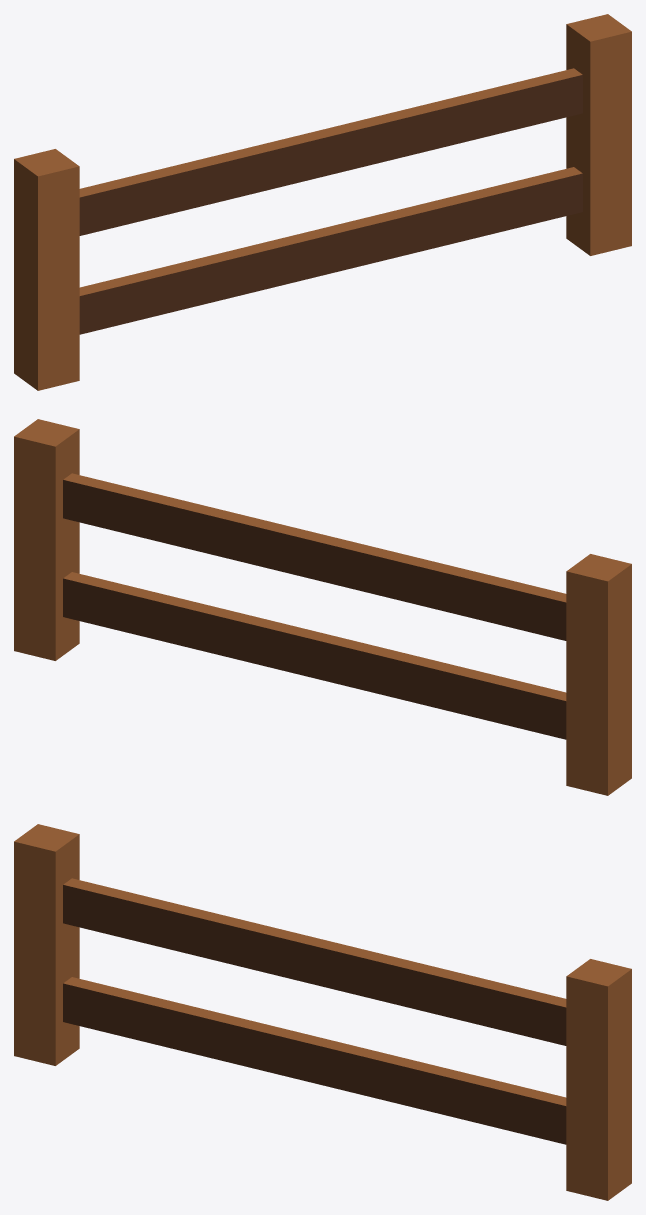
File: fence_simple.glb
3 views of the same model, one above another, from view 1: azimuth 30°, elevation 25°; view 2: azimuth 150°, elevation 25°; view 3: azimuth 330°, elevation 25° (orthographic).
Visible parts, largest first — view 1: fence_simple; view 2: fence_simple; view 3: fence_simple.
Boxes of the visible parts, x1,y1,x2,y2 form: fence_simple: [14, 14, 631, 390]; fence_simple: [14, 419, 631, 795]; fence_simple: [14, 824, 631, 1200].
Size of the model in its own units: 1 by 0.345 by 0.07.
